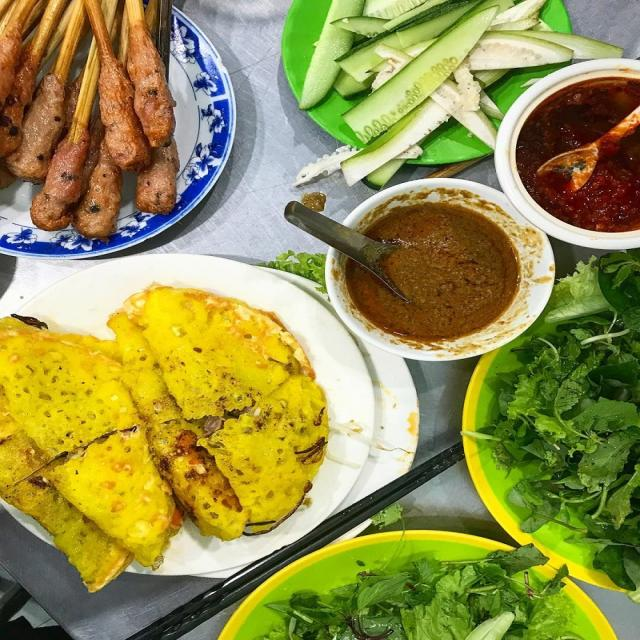banh xeo: (2, 278, 304, 573)
dua leo: (285, 3, 538, 159)
nem nuong sa: (1, 3, 210, 235)
